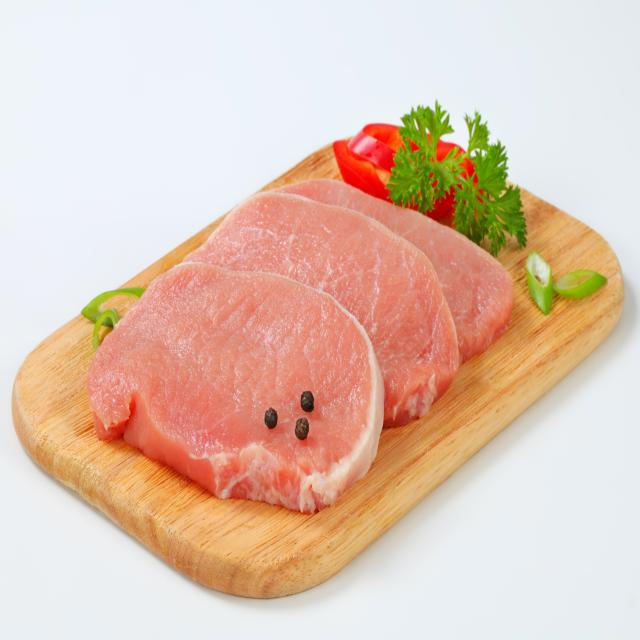carne de res: (86, 253, 398, 522)
